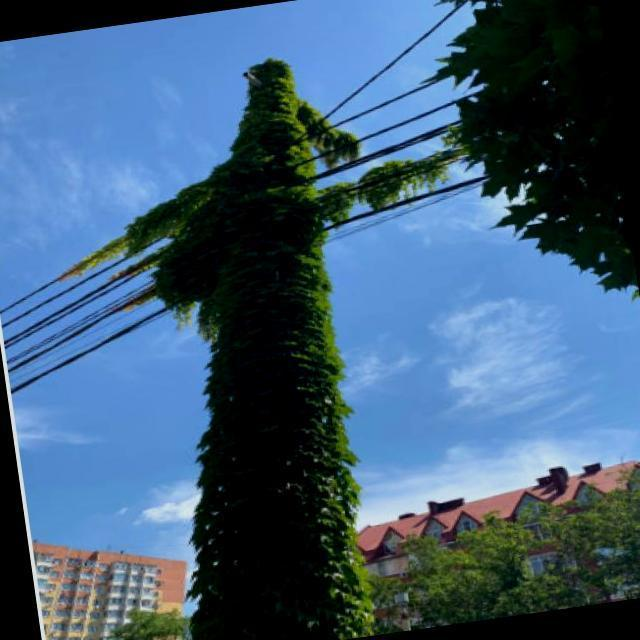critical vegetation: (136, 57, 373, 640), (58, 177, 204, 326), (290, 89, 404, 243)
